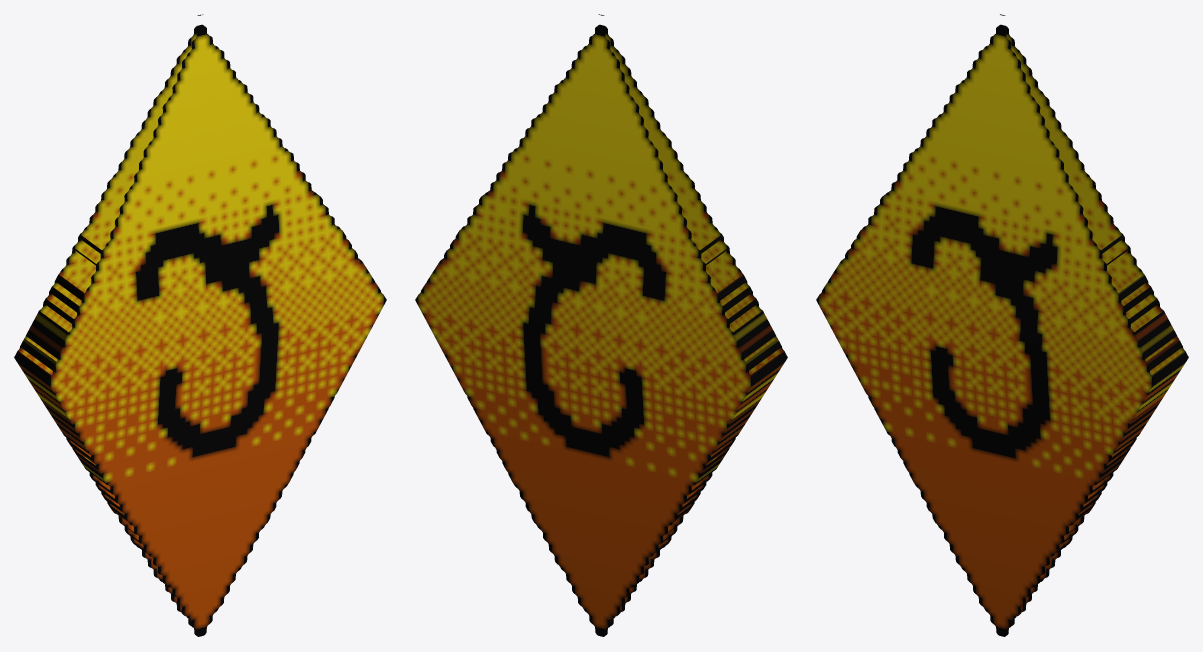
The model's file is moneda.fbx.
3 views of the same model, side by side, from view 1: azimuth 30°, elevation 25°; view 2: azimuth 150°, elevation 25°; view 3: azimuth 330°, elevation 25° (orthographic).
Visible parts, largest first — view 1: Box001; view 2: Box001; view 3: Box001.
Part boxes in pixels (box(x1,y1,x2,y2)): Box001: box(14, 14, 386, 636); Box001: box(415, 14, 787, 636); Box001: box(816, 14, 1188, 636).
Bounding box in the file's own units: 31.26 × 54.74 × 5.47.
